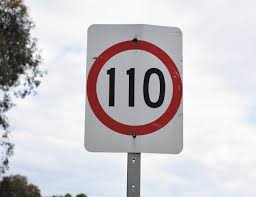Speed_limit_110km: (86, 39, 182, 136)
